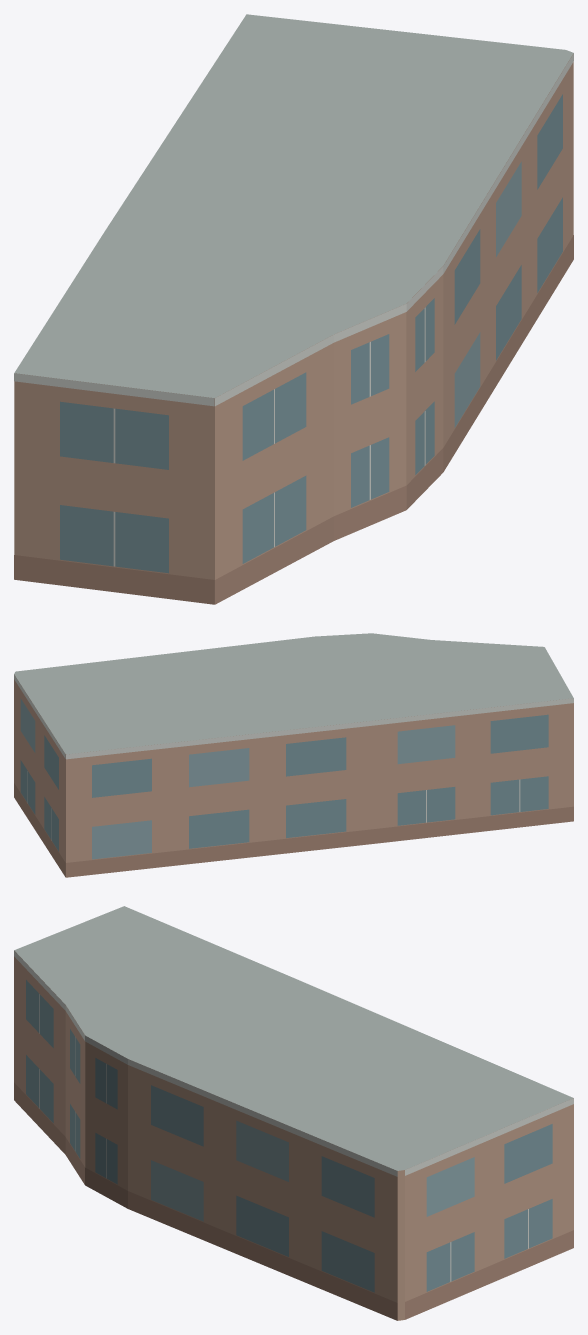
The model's file is survey-upis-32473310.glb.
The picture shows the model from 3 angles, top to bottom: view 1: azimuth 30°, elevation 25°; view 2: azimuth 150°, elevation 25°; view 3: azimuth 270°, elevation 25°; orthographic projection. The views are drawn at different scales.
Parts seen in each view (by area): view 1: survey-upis-32473310.tmp; view 2: survey-upis-32473310.tmp; view 3: survey-upis-32473310.tmp.
Part boxes in pixels (x1=…): survey-upis-32473310.tmp: x1=14, y1=14, x2=573, y2=604; survey-upis-32473310.tmp: x1=14, y1=633, x2=573, y2=877; survey-upis-32473310.tmp: x1=14, y1=906, x2=573, y2=1320.
Bounding box in the file's own units: 23.13 × 6.1 × 20.65.
